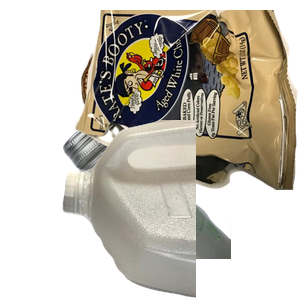glass: (60, 120, 300, 300)
metal: (78, 37, 243, 163)
plastic: (60, 120, 300, 300)
trash: (75, 10, 300, 190)
